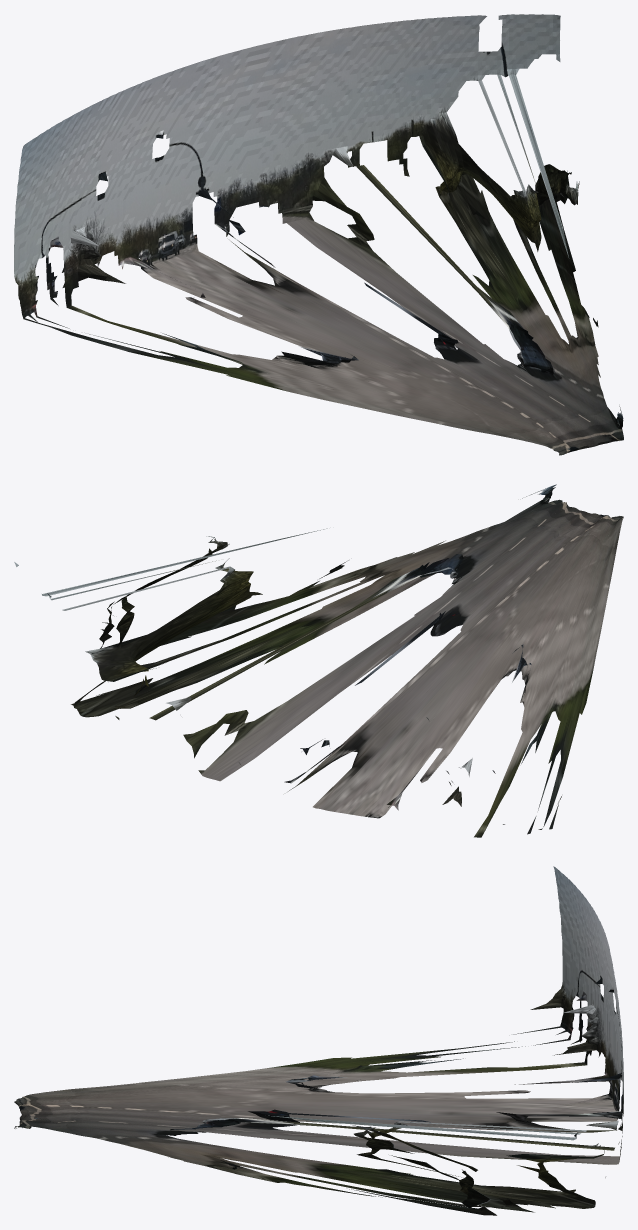
3 views of the same model, one above another, from view 1: azimuth 30°, elevation 25°; view 2: azimuth 150°, elevation 25°; view 3: azimuth 270°, elevation 25° (orthographic). The views are drawn at different scales.
Parts seen in each view (by area): view 1: defaultobject; view 2: defaultobject; view 3: defaultobject.
Boxes of the visible parts, x1=… form: defaultobject: x1=14, y1=14, x2=623, y2=455; defaultobject: x1=14, y1=484, x2=623, y2=837; defaultobject: x1=14, y1=866, x2=623, y2=1215.
Size of the model in its own units: 41.03 by 14.48 by 44.51.
1 material, 1 textured.
